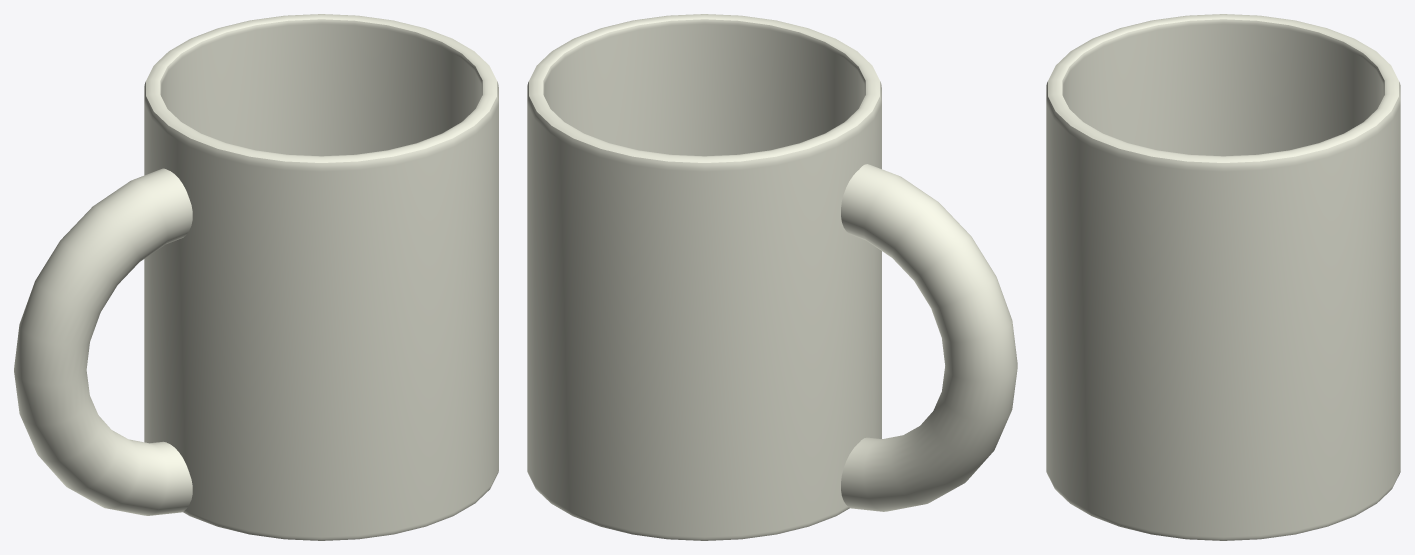
Rendered from Mug.FBX.
3 renders of one model, left to right at view 1: azimuth 30°, elevation 25°; view 2: azimuth 150°, elevation 25°; view 3: azimuth 270°, elevation 25°, orthographic.
Visible parts, largest first — view 1: Cylinder001, Cylinder002; view 2: Cylinder001, Cylinder002; view 3: Cylinder001.
Part boxes in pixels (x1,y1,x2,y2): Cylinder001: (144, 14, 498, 540); Cylinder002: (14, 168, 192, 515); Cylinder001: (527, 14, 881, 540); Cylinder002: (841, 164, 1017, 511); Cylinder001: (1046, 14, 1400, 540).
Bounding box in the file's own units: 50.26 × 40.24 × 33.55.
1 material, 1 textured.
